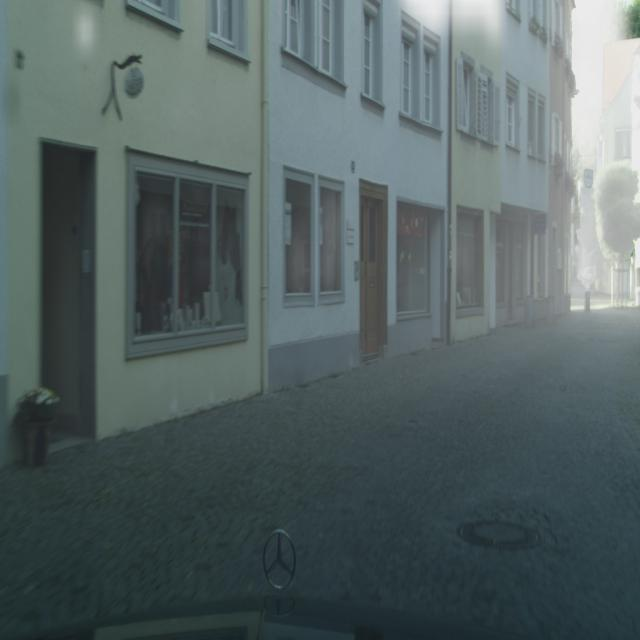bus: (580, 266, 596, 286)
